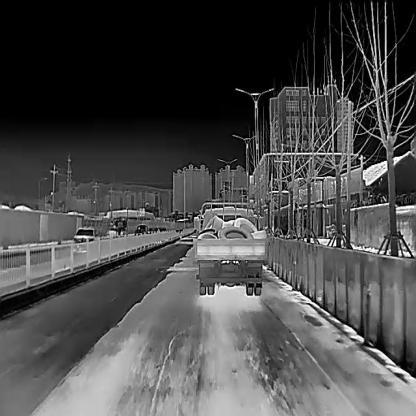car: (195, 200, 268, 296), (74, 227, 98, 252), (133, 225, 148, 237), (148, 227, 158, 234)
